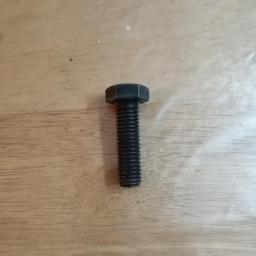screwtype2black: (102, 80, 155, 191)
